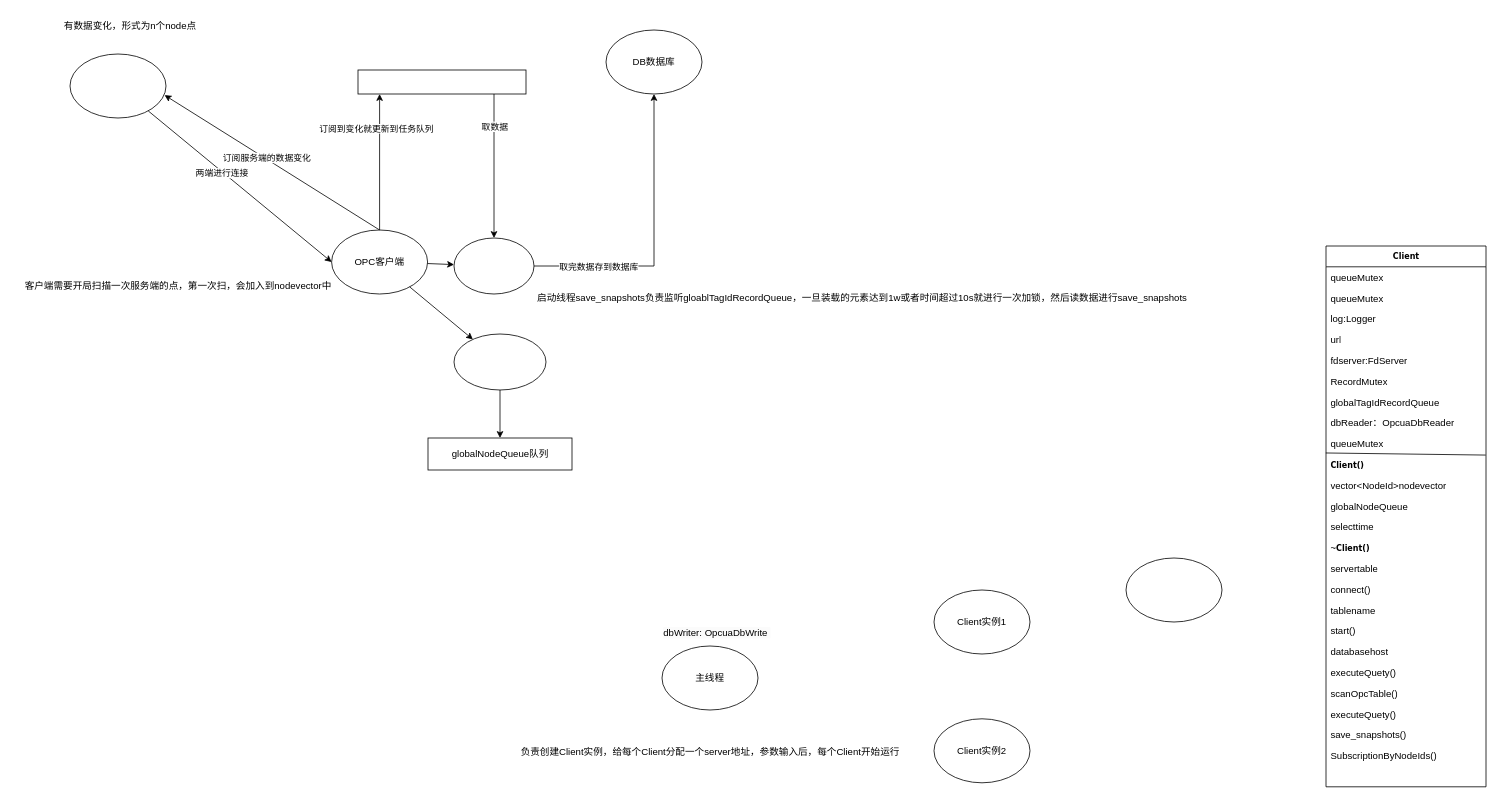
This 1501x801 diagram has some shape labels left out. Here are the shapes that lost their labels. From the top down, the centre of each, then its label:
At (117,85): "OPC服务端".
At (441,81): "globalTagIdRecordQueue任务队列".
At (493,265): "线程1：save_snapshots".
At (499,361): "线程2：扫表加新点到globalNodeQueue".
